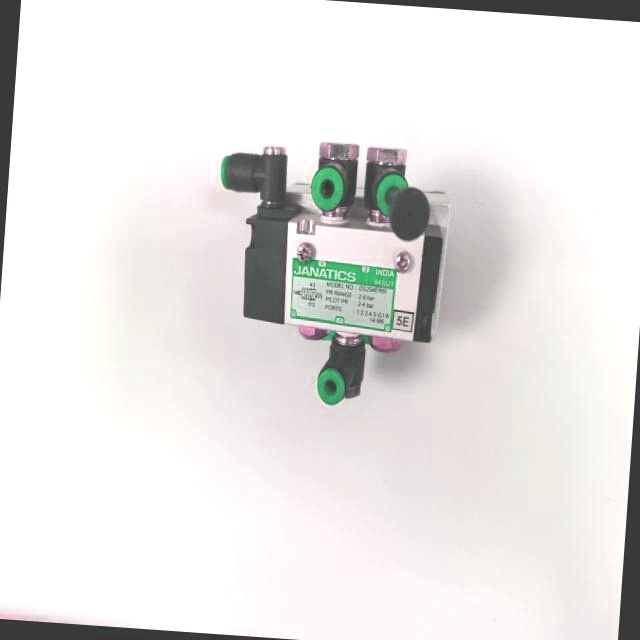5by2 DCV: (195, 111, 467, 423)
